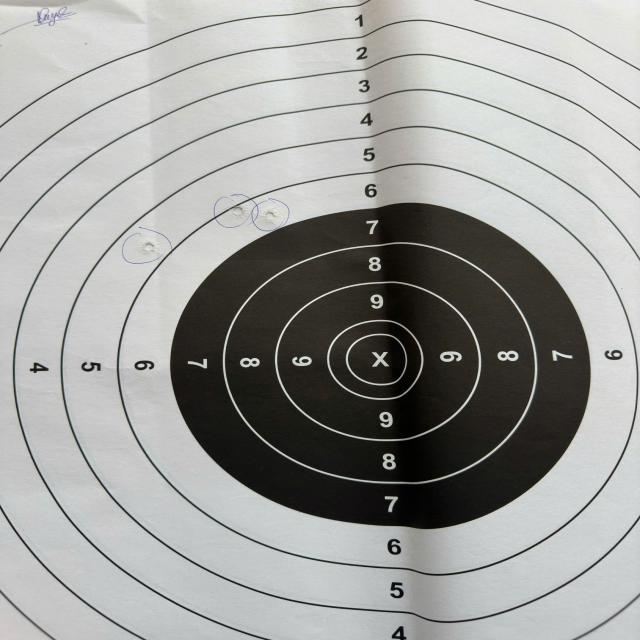bullet: (228, 204, 247, 217), (142, 241, 158, 253), (265, 210, 279, 220)
target: (0, 0, 640, 640)
